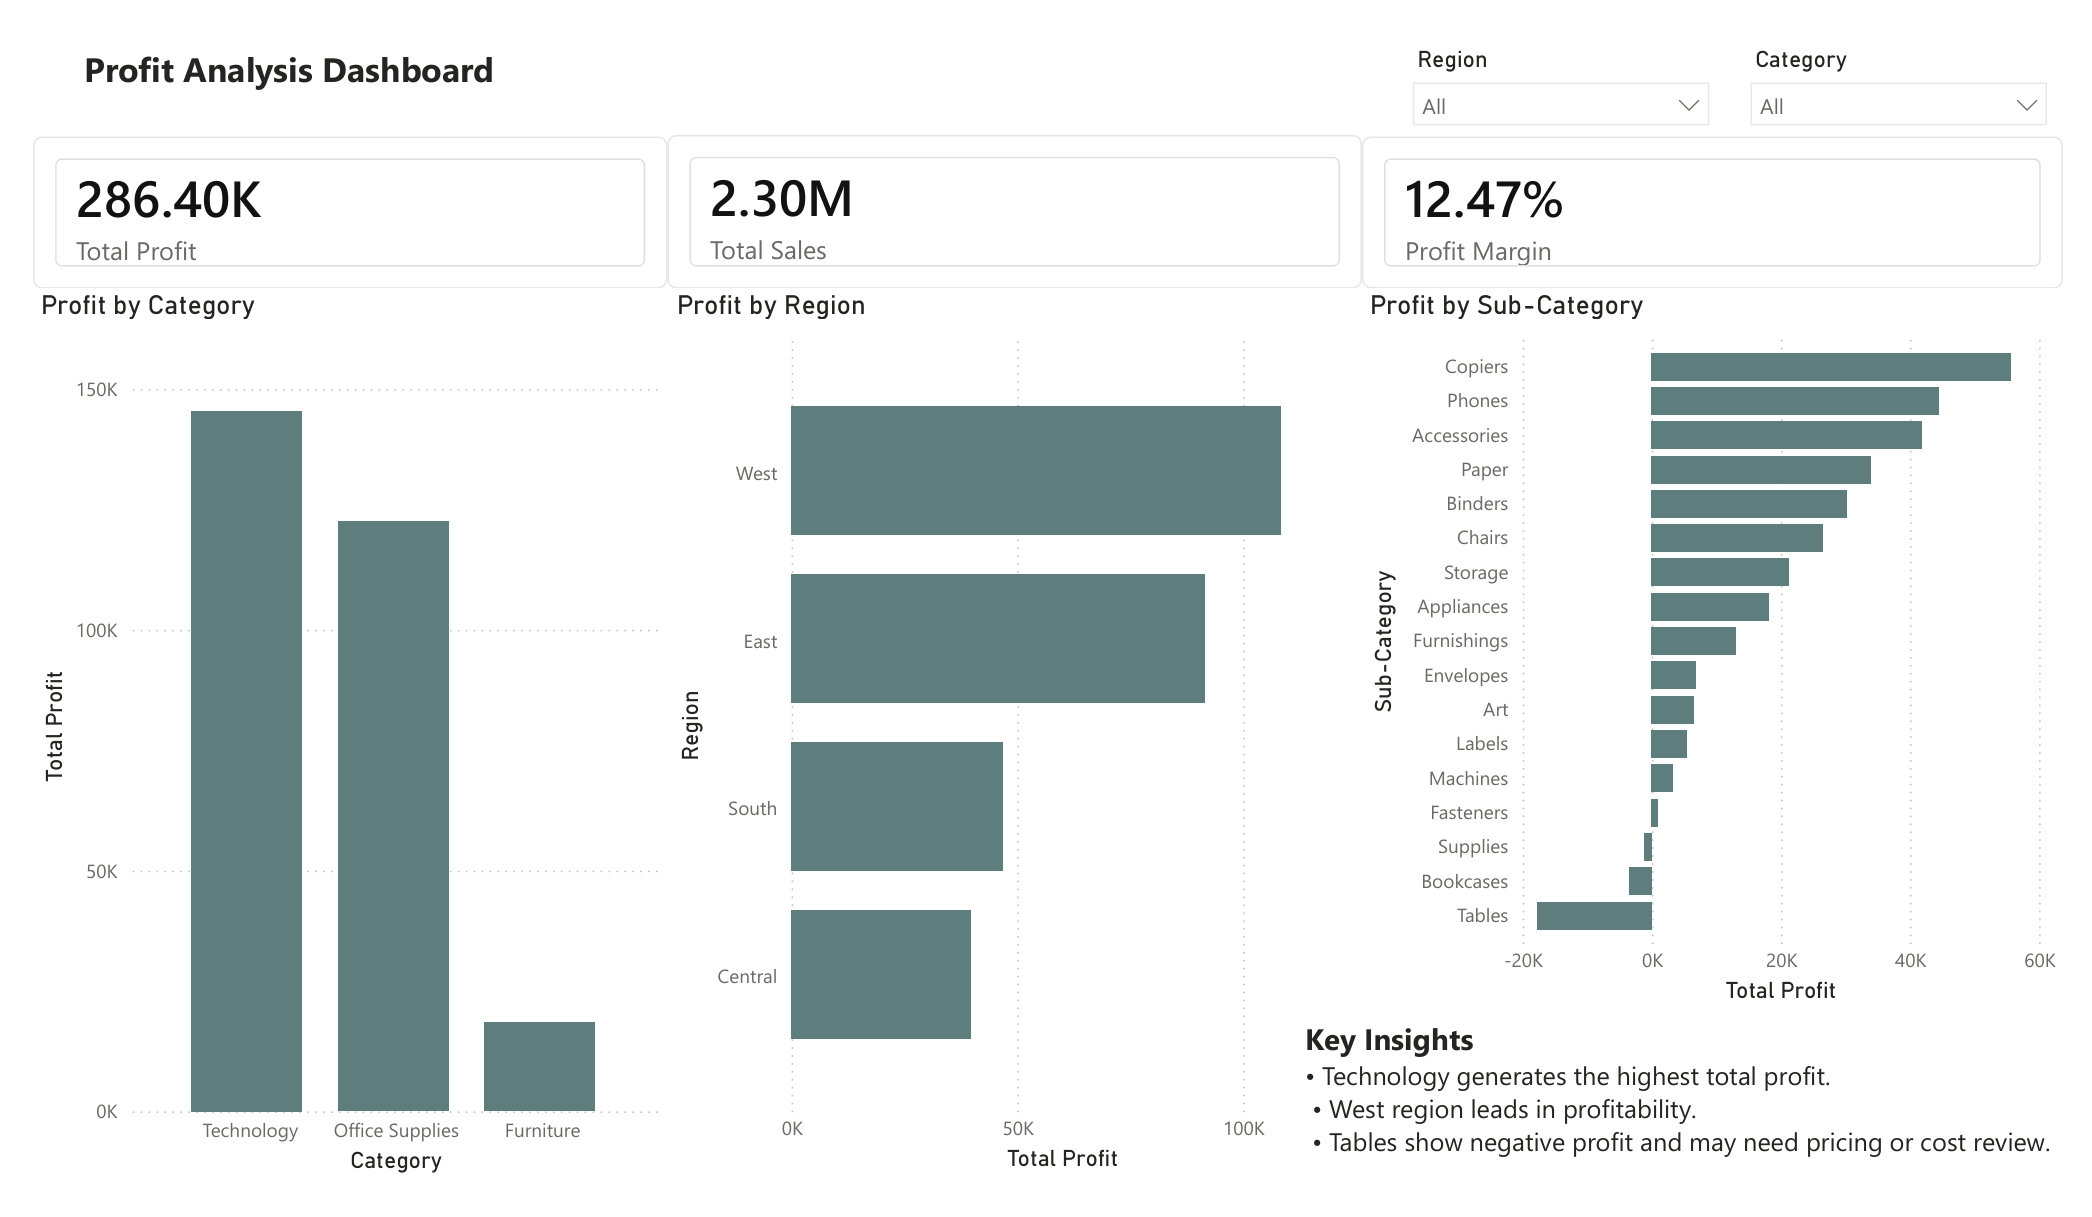

Layout of this report page (visuals, bound fields, positions):
{"tool":"powerbi","page":{"name":"Profit Analysis ","canvas":[1280,720],"ordinal":1},"visuals":[{"type":"textbox","box":[27,0,925,53],"z":0},{"type":"cardVisual","fields":{"Data":["Sum(Orders.Profit)"]},"box":[0,61.9,400,96.2],"z":1000},{"type":"cardVisual","fields":{"Data":["Sum(Orders.Sales)"]},"box":[400,61.2,438.1,96.9],"z":2000},{"type":"cardVisual","fields":{"Data":["Orders.Profit Margin"]},"box":[838.2,61.8,441.8,96.5],"z":3000},{"type":"clusteredColumnChart","title":" Profit by Category","fields":{"Category":["Orders.Category"],"Y":["Sum(Orders.Profit)"]},"box":[0,158.3,400,561.7],"z":4000},{"type":"clusteredBarChart","title":" Profit by Region","fields":{"Category":["Orders.Region"],"Y":["Sum(Orders.Profit)"]},"box":[400.5,158.5,438,560.7],"z":5000},{"type":"clusteredBarChart","title":" Profit by Sub-Category","fields":{"Category":["Orders.Sub-Category"],"Y":["Sum(Orders.Profit)"]},"box":[838.3,158.3,441.7,455],"z":6000},{"type":"slicer","fields":{"Values":["Orders.Region"]},"box":[860,0,207.1,61.2],"z":7000},{"type":"slicer","fields":{"Values":["Orders.Category"]},"box":[1072.9,0,207.1,61.2],"z":8000},{"type":"textbox","box":[796.7,613.3,483.3,106.7],"z":9000}]}

Visuals, with their boxes on the page's 1280x720 design canvas (x1, y1, x2, y2). These are canvas units, not pixel positions in the 2092x1217 screenshot, which may show the page scaled, cropped or inside an application window:
textbox: BBox(27, 0, 952, 53)
cardVisual - Sum(Orders.Profit): BBox(0, 62, 400, 158)
cardVisual - Sum(Orders.Sales): BBox(400, 61, 838, 158)
cardVisual - Orders.Profit Margin: BBox(838, 62, 1280, 158)
" Profit by Category" clusteredColumnChart: BBox(0, 158, 400, 720)
" Profit by Region" clusteredBarChart: BBox(400, 158, 838, 719)
" Profit by Sub-Category" clusteredBarChart: BBox(838, 158, 1280, 613)
slicer - Orders.Region: BBox(860, 0, 1067, 61)
slicer - Orders.Category: BBox(1073, 0, 1280, 61)
textbox: BBox(797, 613, 1280, 720)
